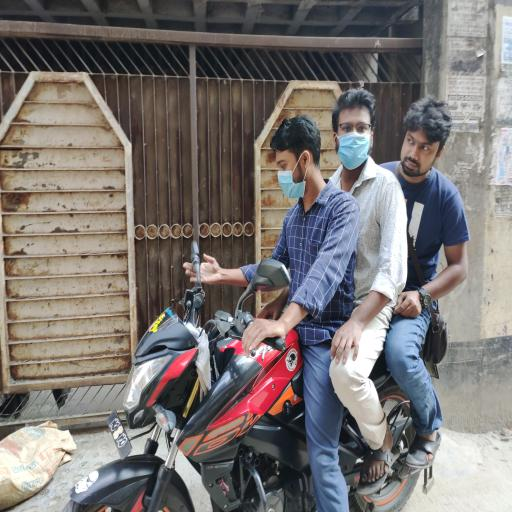overloading: (65, 242, 437, 510)
